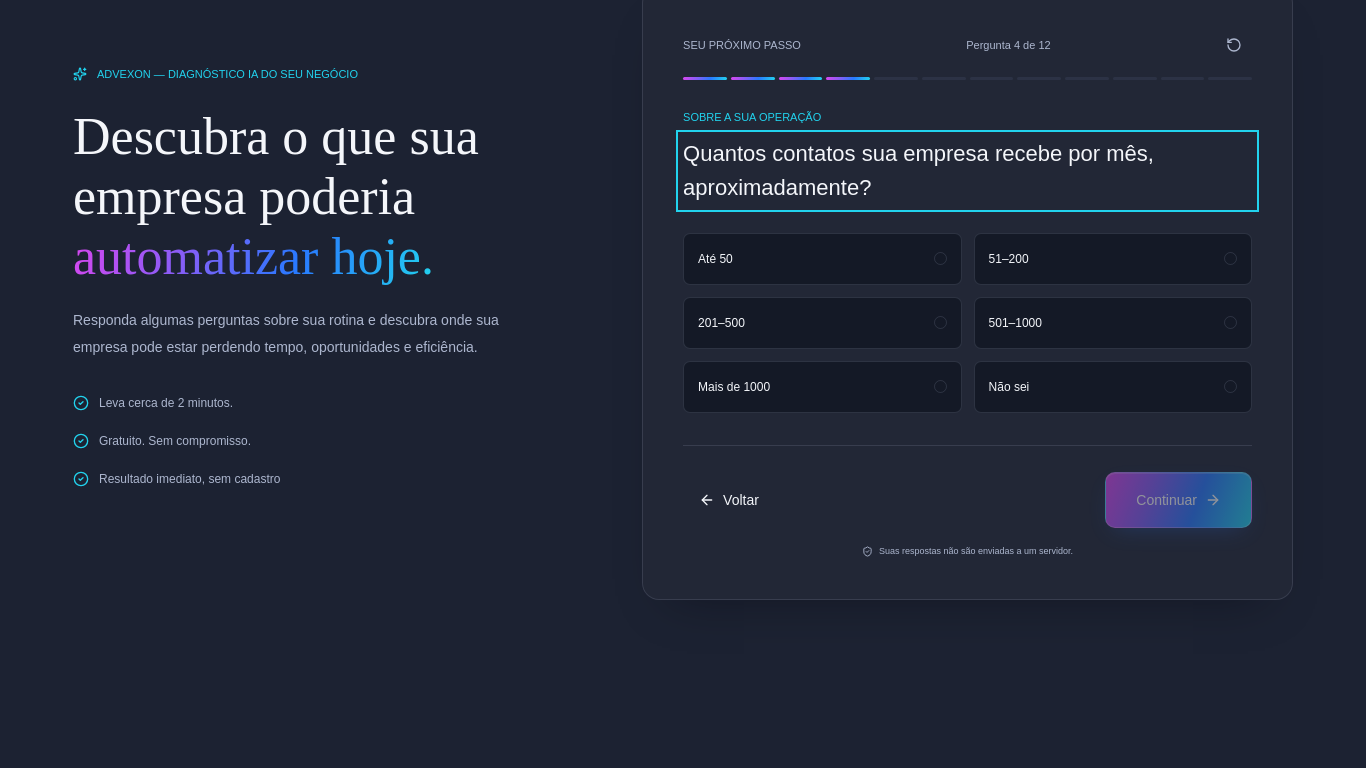
Test: Account diagnostic continuity › saves all twelve answers on the first completed account diagnostic
The image size is (1366, 768).
Earlier steps of the test are not shown.
Later steps or results of the test are not shown.
(page scrolled)
Expected: the element named "Quantos contatos sua empresa recebe por mês, aproximadamente?" is shown, [683,233,1252,413]
Click the button "Até 50": {"x": 715, "y": 259} [683,233,962,285]
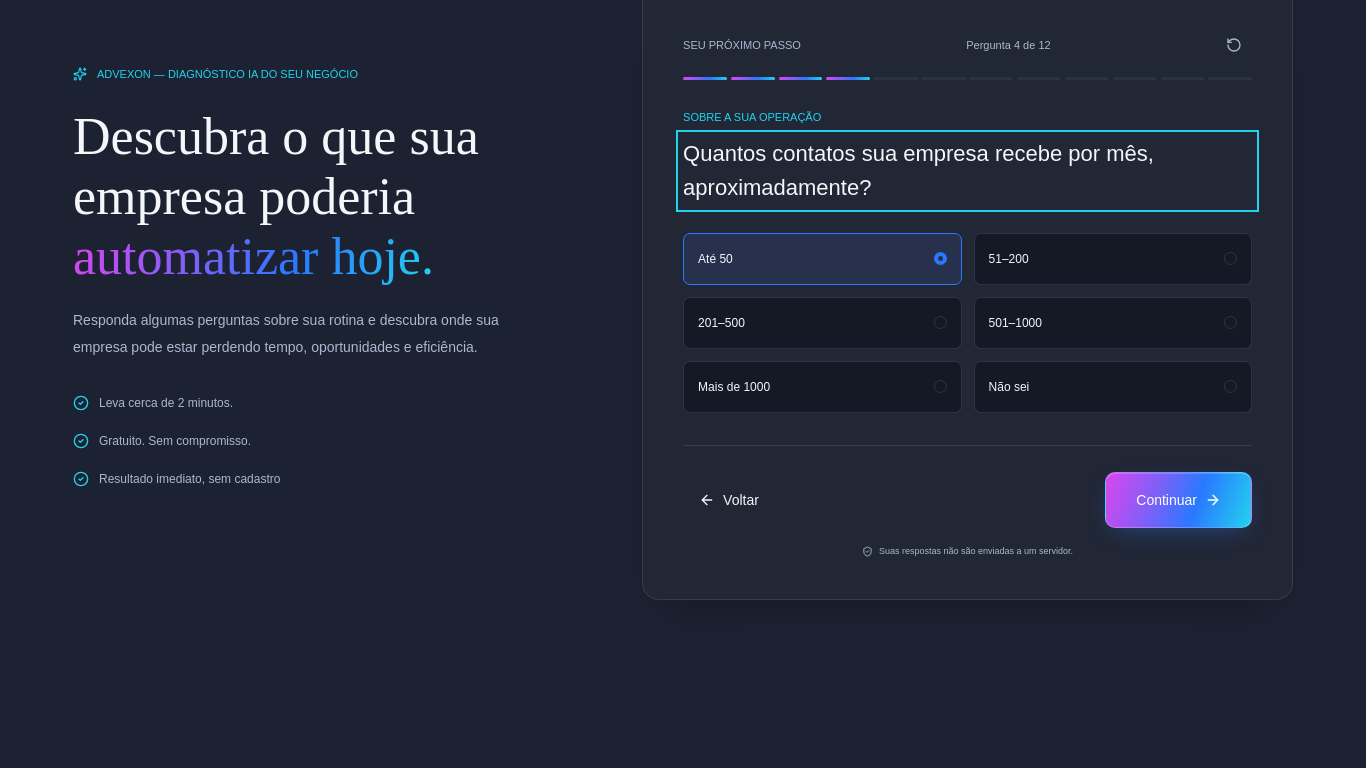
Click the button "Continuar": {"x": 1179, "y": 500} [1105,472,1252,528]
(page scrolled)
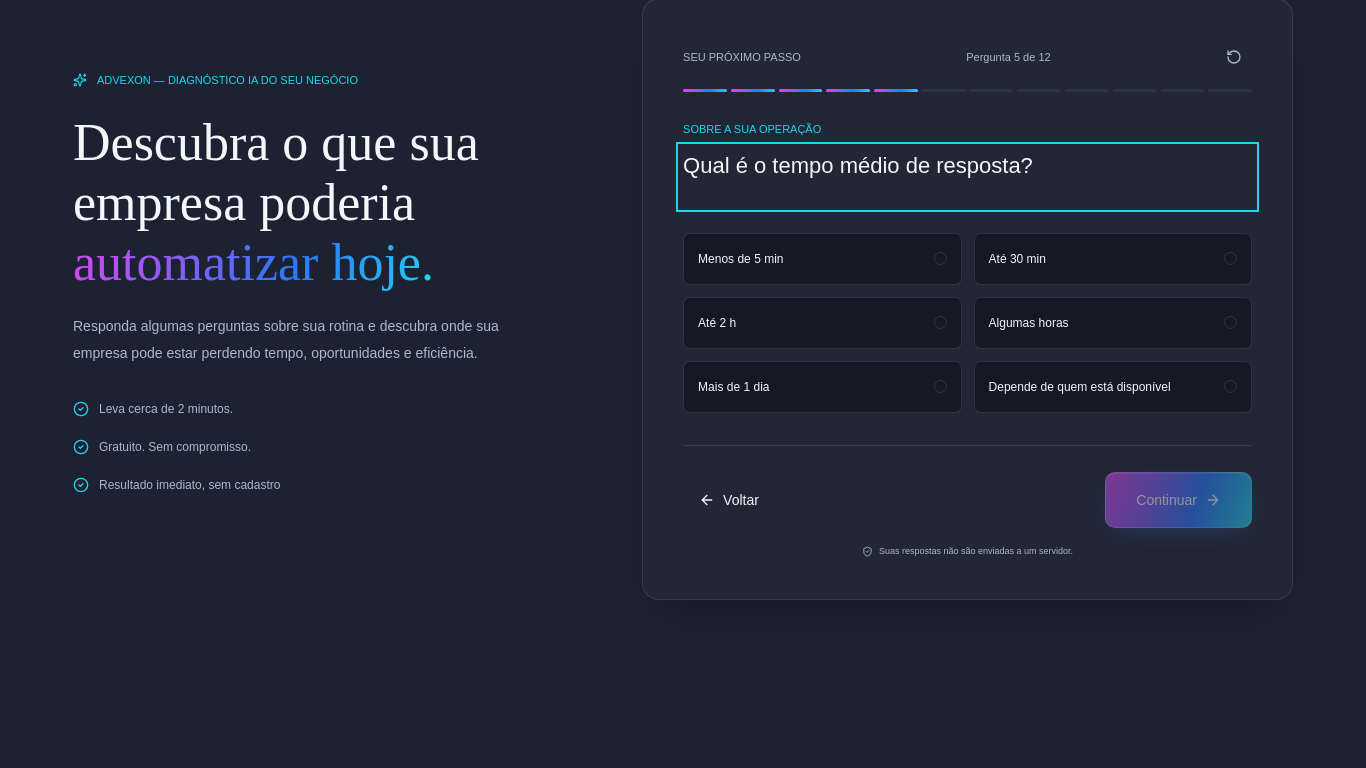
Expected: the element named "Qual é o tempo médio de resposta?" is shown, [683,233,1252,413]
Click the button "Menos de 5 min": {"x": 741, "y": 259} [683,233,962,285]
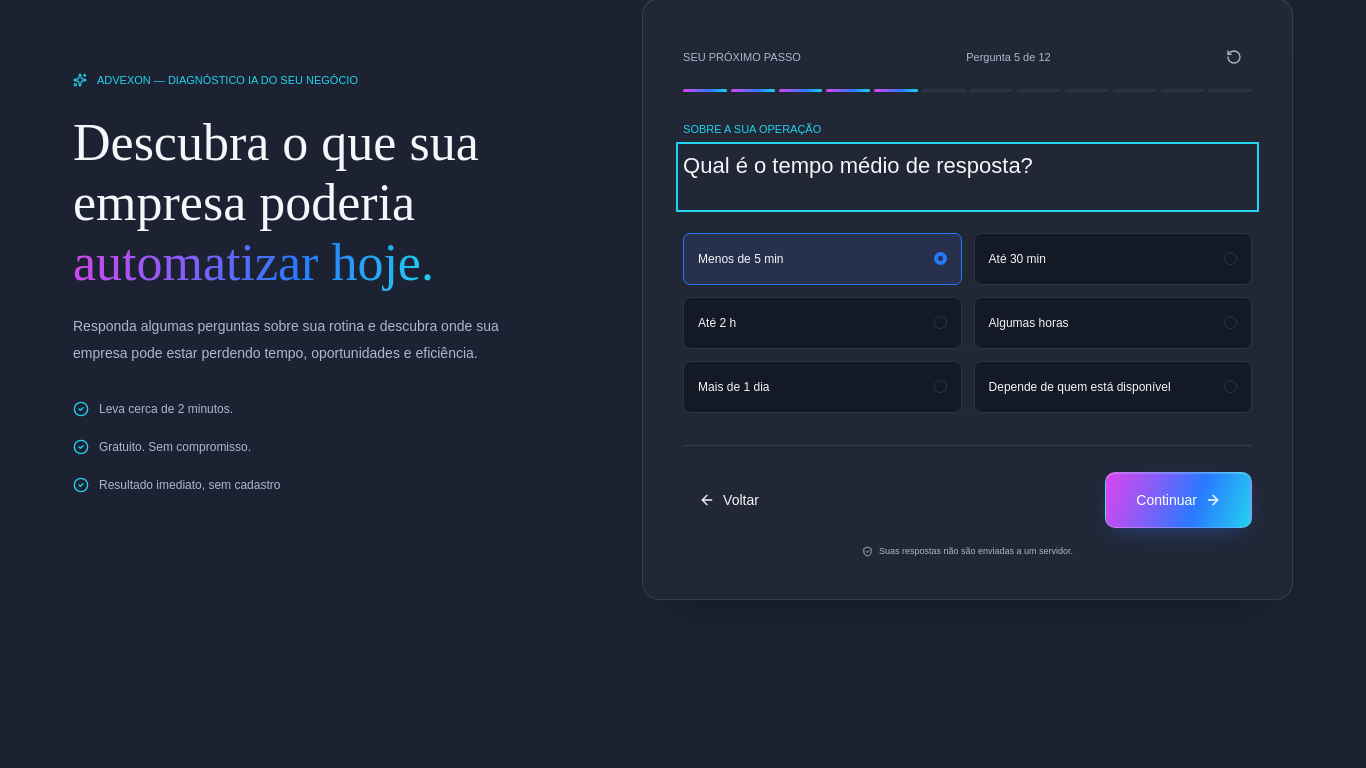
Click the button "Continuar": {"x": 1179, "y": 500} [1105,472,1252,528]
(page scrolled)
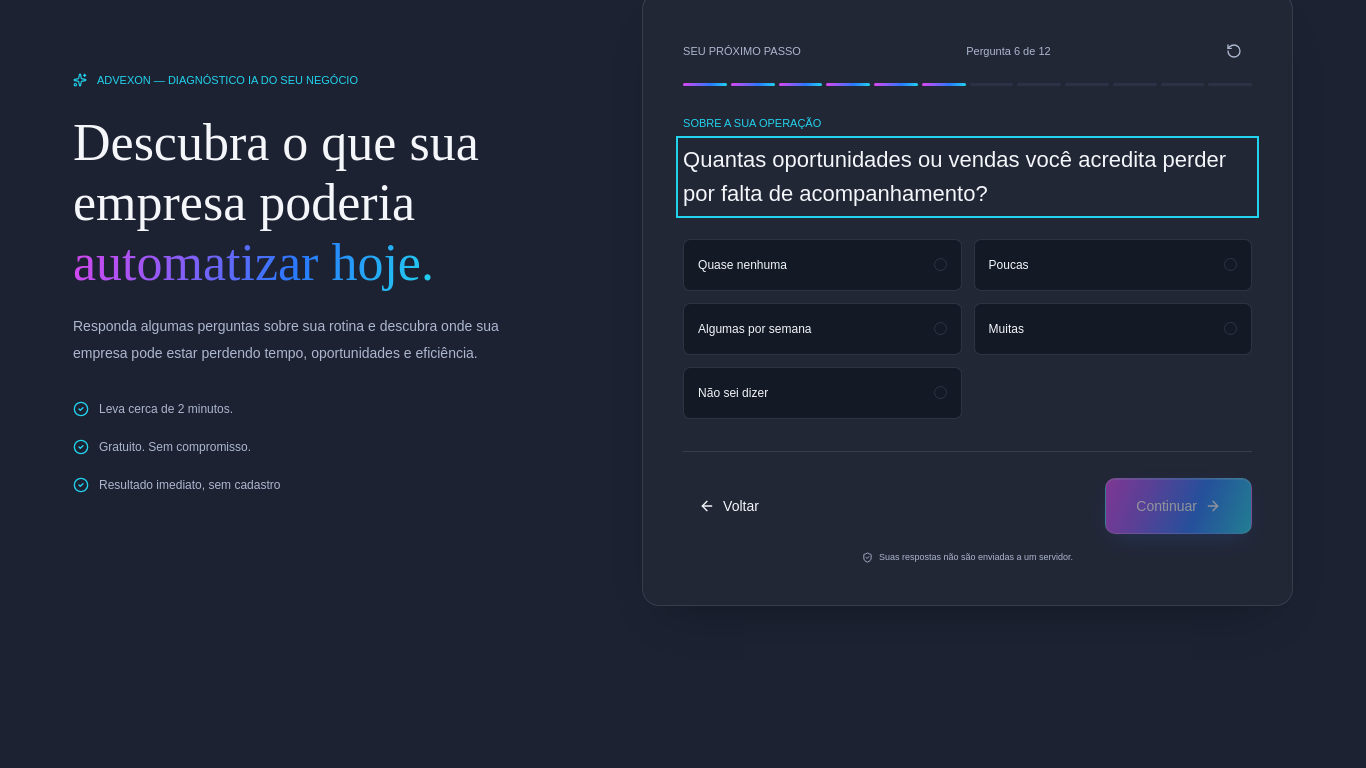
Expected: the element named "Quantas oportunidades ou vendas você acredita perder por falta de acompanhamento?" is shown, [683,239,1252,419]
Click the button "Quase nenhuma": {"x": 742, "y": 265} [683,239,962,291]
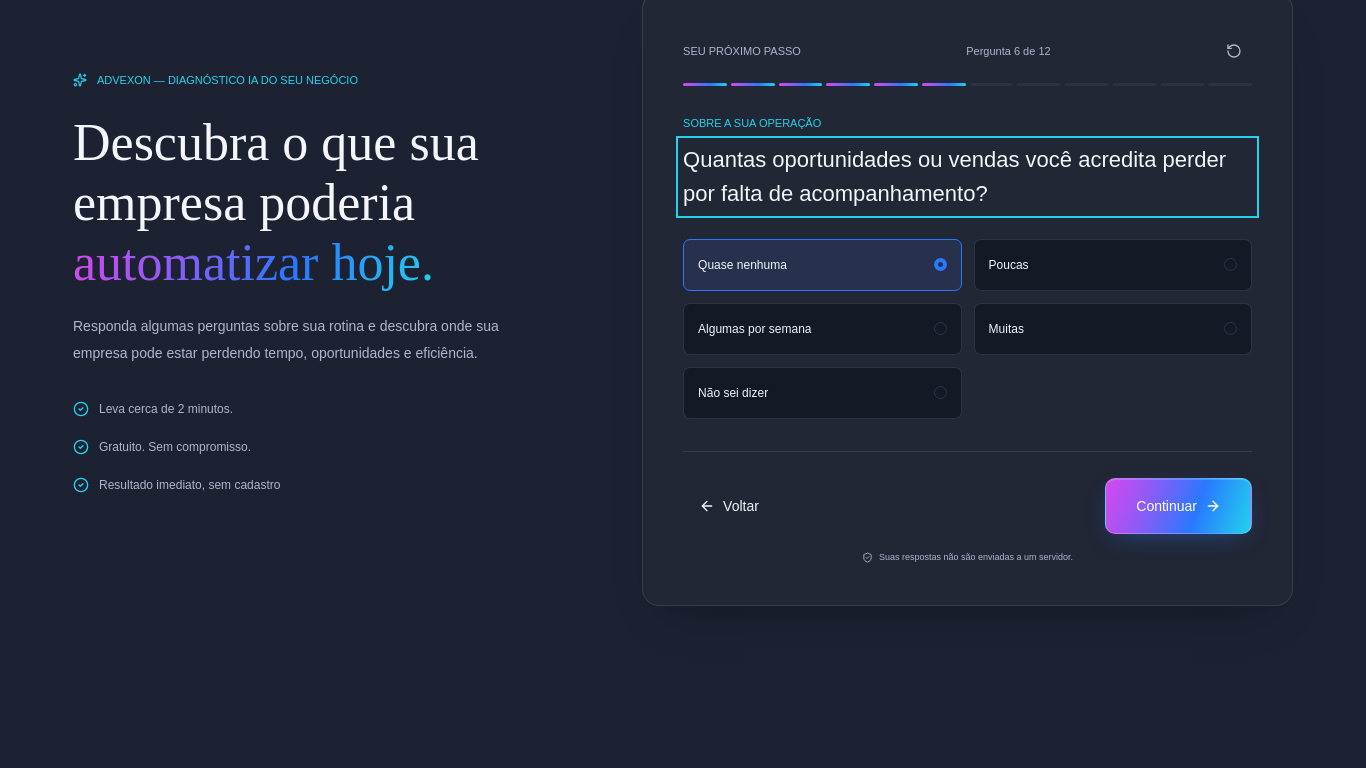
Click the button "Continuar": {"x": 1179, "y": 506} [1105,478,1252,534]
(page scrolled)
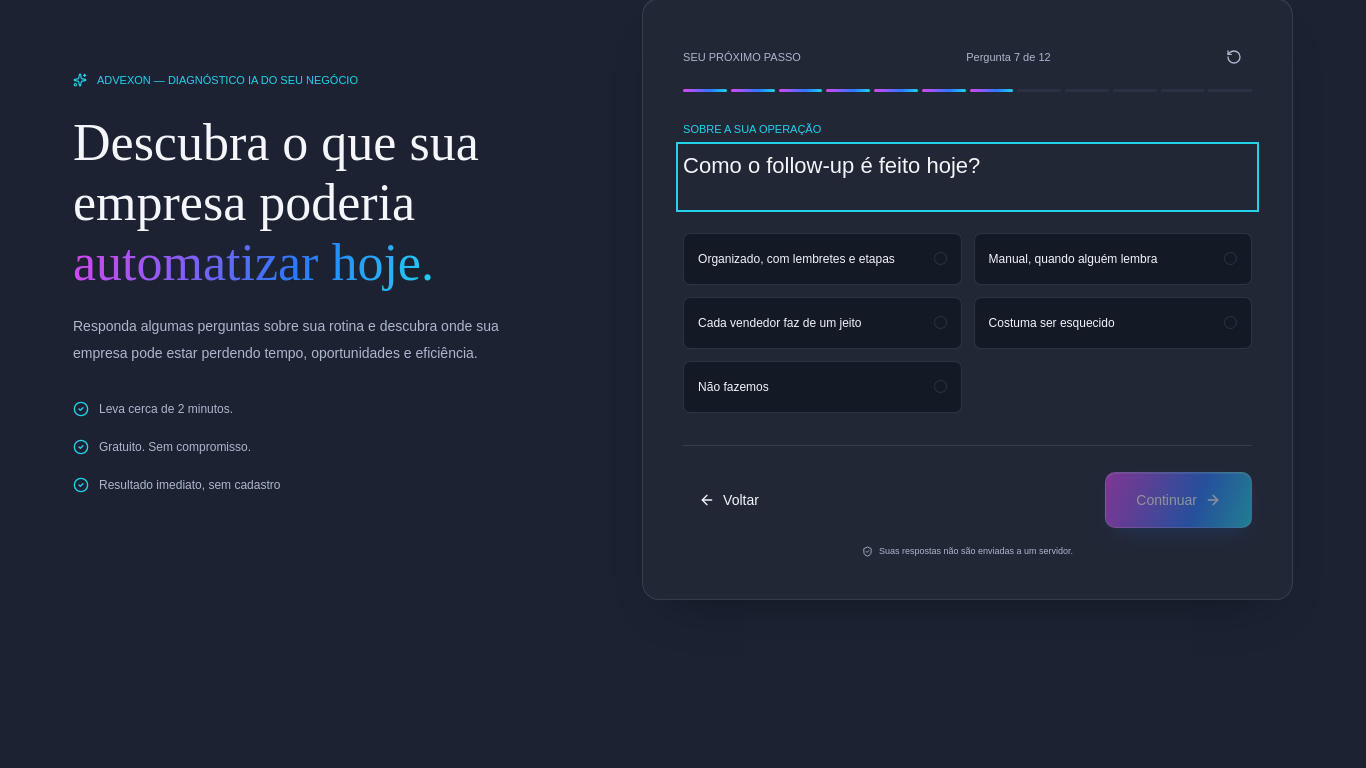
Expected: the element named "Como o follow-up é feito hoje?" is shown, [683,233,1252,413]
